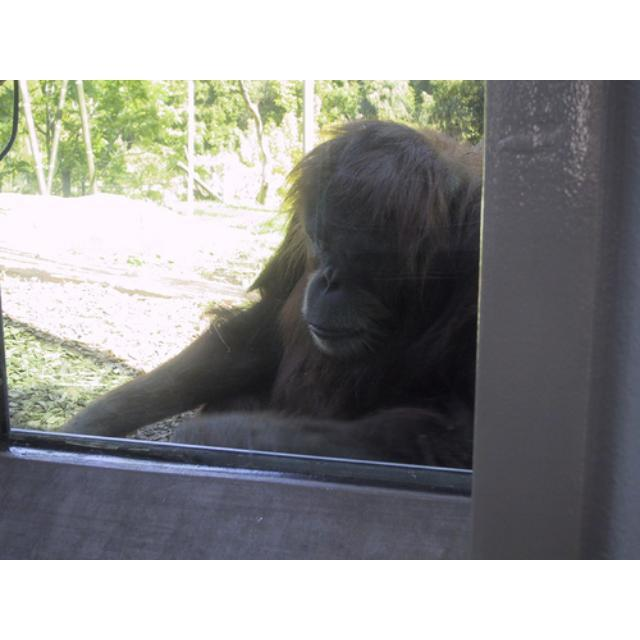Orangutan: (80, 129, 493, 445)
